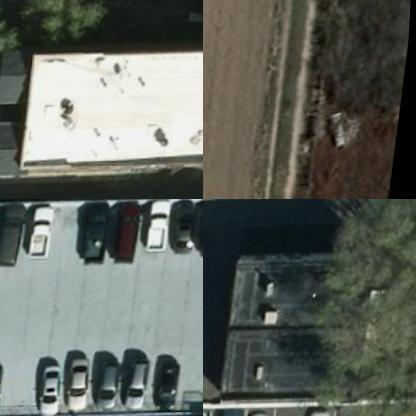car: (74, 205, 110, 264), (138, 199, 174, 258), (146, 353, 182, 412), (28, 356, 63, 416), (116, 357, 152, 415), (161, 199, 196, 258), (89, 353, 124, 412), (28, 205, 63, 264), (107, 202, 142, 260), (64, 353, 98, 412), (0, 207, 22, 267), (193, 199, 202, 259), (0, 356, 8, 415)
